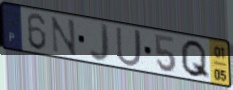5: (153, 32, 178, 74)
6: (26, 11, 48, 52)
J: (88, 22, 111, 65)
N: (50, 15, 79, 59)
Q: (179, 39, 212, 82)
U: (114, 25, 143, 69)
